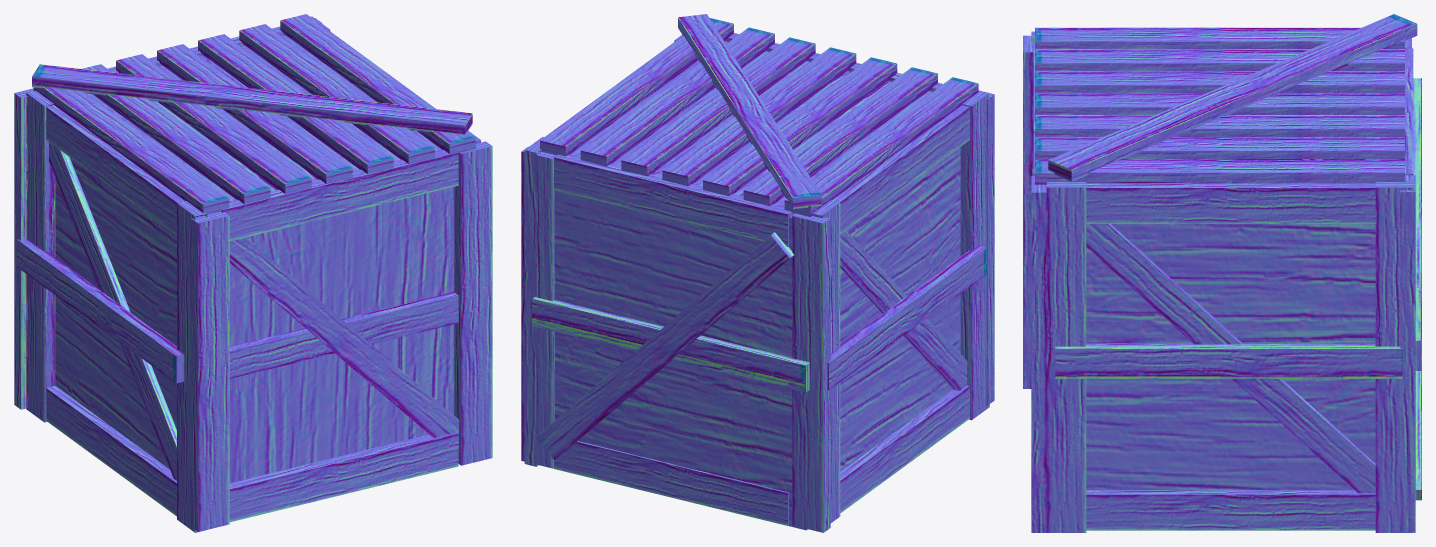
Rendered from CrCrateA1A.fbx.
3 views of the same model, side by side, from view 1: azimuth 30°, elevation 25°; view 2: azimuth 150°, elevation 25°; view 3: azimuth 270°, elevation 25° (orthographic). The views are drawn at different scales.
Parts seen in each view (by area): view 1: CrCrateA1A; view 2: CrCrateA1A; view 3: CrCrateA1A.
Boxes of the visible parts, x1,y1,x2,y2 form: CrCrateA1A: (14,14,492,532); CrCrateA1A: (521,14,994,532); CrCrateA1A: (1023,14,1421,532).
Size of the model in its own units: 83.65 by 87.4 by 86.64.
